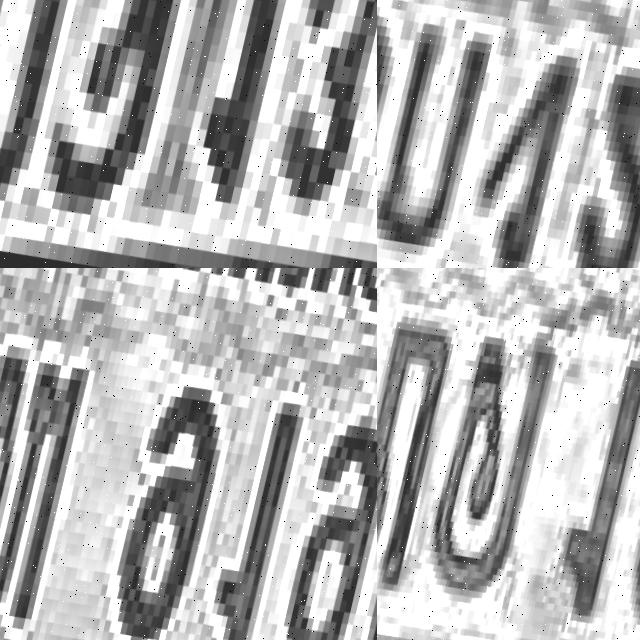license-plate: (0, 268, 377, 640), (0, 0, 377, 268), (377, 268, 640, 640), (377, 0, 640, 268)
